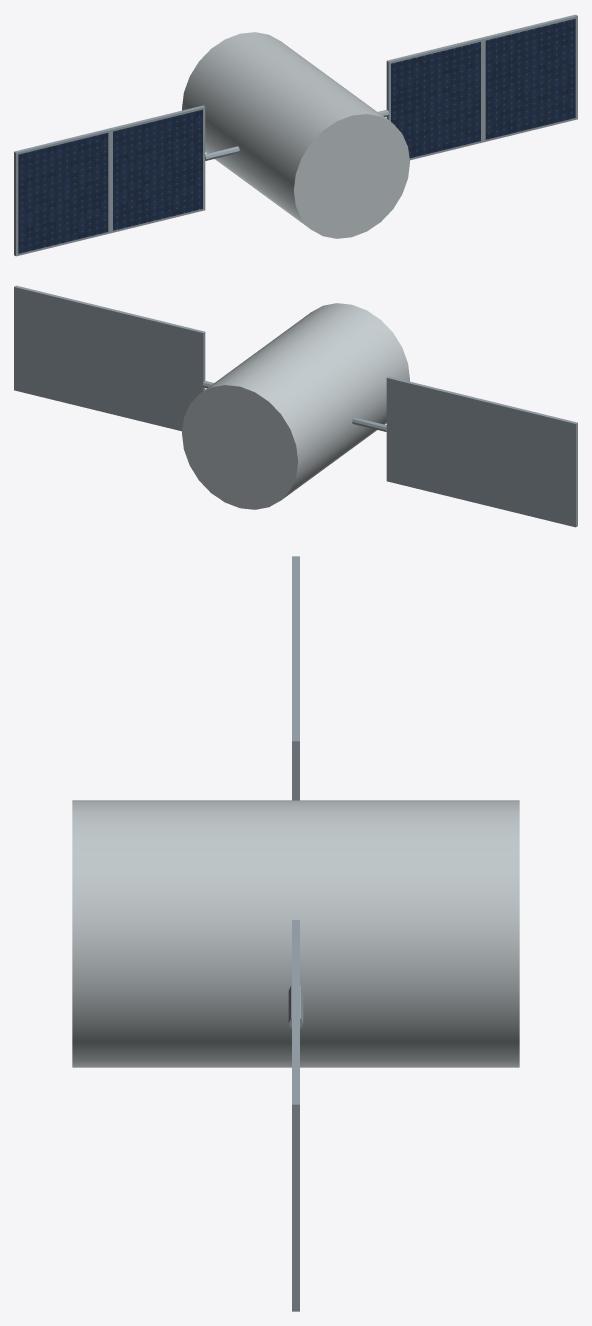
Rendered from ref-trmm-25063.glb.
The picture shows the model from 3 angles, top to bottom: view 1: azimuth 30°, elevation 25°; view 2: azimuth 150°, elevation 25°; view 3: azimuth 270°, elevation 25°; orthographic projection. The views are drawn at different scales.
Visible parts, largest first — view 1: Photovoltaic laminates (×4), Spacecraft body, Array frame (×4); view 2: Array frame (×4), Spacecraft body; view 3: Spacecraft body, Array frame (×2).
Part boxes in pixels (x1,y1,x2,y2): Photovoltaic laminates (×4): (18, 18, 575, 253); Spacecraft body: (182, 32, 409, 238); Array frame (×4): (14, 14, 577, 256); Array frame (×4): (14, 285, 577, 527); Spacecraft body: (182, 303, 409, 509); Spacecraft body: (72, 800, 519, 1067); Array frame (×2): (292, 648, 299, 1311).
Size of the model in its own units: 14.5 by 3 by 5.
Materials: 3 (1 with a texture image).
